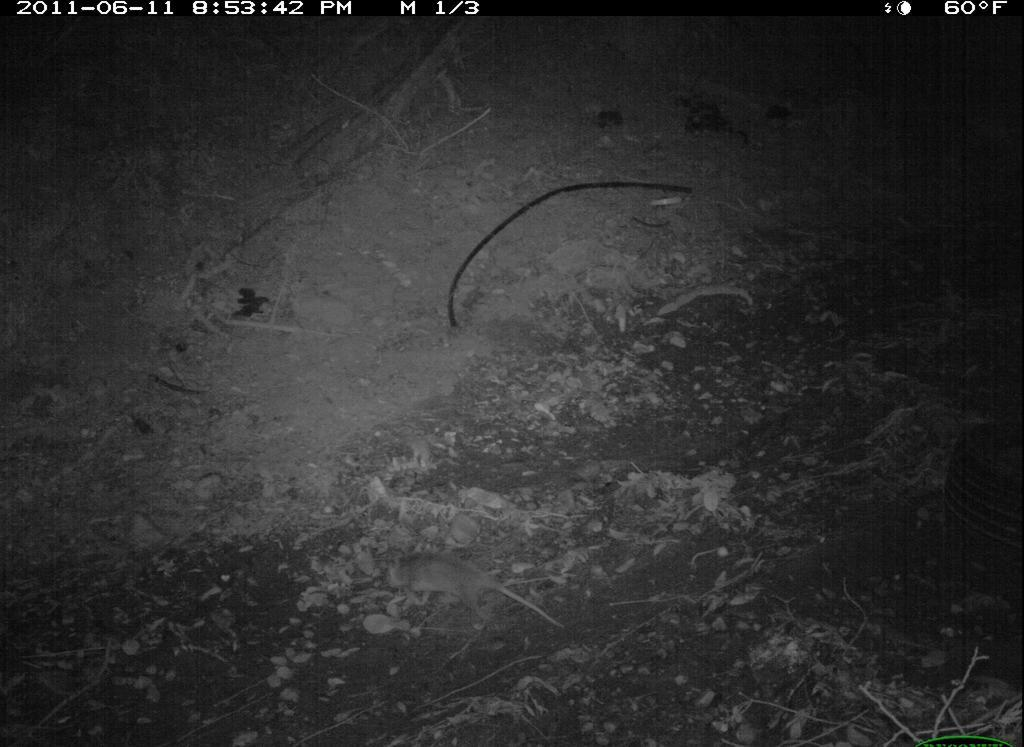opossum: (376, 545, 574, 652)
